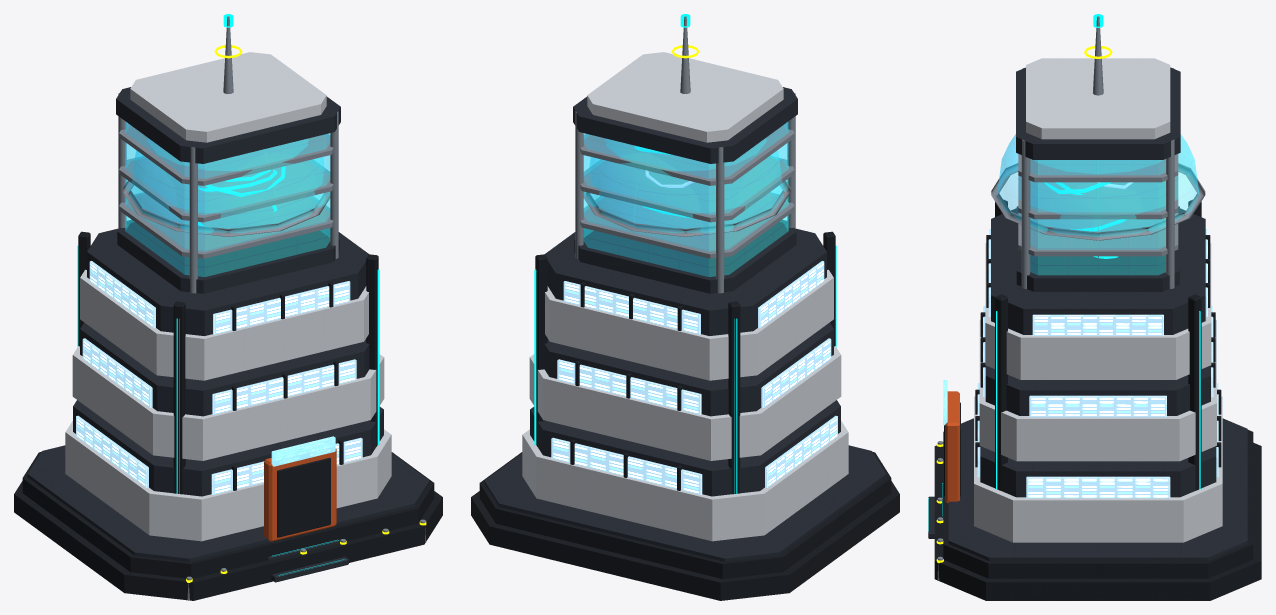
Rendered from bldg_05_r1_01.glb.
3 renders of one model, left to right at view 1: azimuth 30°, elevation 25°; view 2: azimuth 150°, elevation 25°; view 3: azimuth 270°, elevation 25°, orthographic.
Visible parts, largest first — view 1: Bldg05_C01_aero_white, Bldg05_C01_carbon_slate, Bldg05_C01_gunmetal, Bldg05_C01_steel_machined, Bldg05_C01_glass_cyan, Bldg05_C01_window_lit, Bldg05_C01_led_cyan, Bldg05_C01_accent_orange, Bldg05_C01_marquee; view 2: Bldg05_C01_aero_white, Bldg05_C01_carbon_slate, Bldg05_C01_gunmetal, Bldg05_C01_steel_machined, Bldg05_C01_glass_cyan, Bldg05_C01_window_lit, Bldg05_C01_led_cyan; view 3: Bldg05_C01_aero_white, Bldg05_C01_carbon_slate, Bldg05_C01_gunmetal, Bldg05_C01_steel_machined, Bldg05_C01_glass_cyan, Bldg05_C01_window_lit, Bldg05_C01_accent_orange, Bldg05_C01_led_cyan.
Boxes of the visible parts, x1,y1,x2,y2 form: Bldg05_C01_aero_white: (65,52,391,541); Bldg05_C01_carbon_slate: (27,87,429,582); Bldg05_C01_gunmetal: (14,231,442,600); Bldg05_C01_steel_machined: (118,16,426,600); Bldg05_C01_glass_cyan: (125,121,330,276); Bldg05_C01_window_lit: (76,261,362,494); Bldg05_C01_led_cyan: (77,14,379,576); Bldg05_C01_accent_orange: (264,448,336,541); Bldg05_C01_marquee: (271,436,335,466); Bldg05_C01_aero_white: (522,52,848,541); Bldg05_C01_carbon_slate: (484,87,886,561); Bldg05_C01_gunmetal: (471,231,899,600); Bldg05_C01_steel_machined: (575,16,882,463); Bldg05_C01_glass_cyan: (583,121,788,276); Bldg05_C01_window_lit: (551,261,837,494); Bldg05_C01_led_cyan: (534,14,836,493); Bldg05_C01_aero_white: (974,58,1222,542); Bldg05_C01_carbon_slate: (928,67,1247,561); Bldg05_C01_gunmetal: (934,200,1261,600); Bldg05_C01_steel_machined: (937,16,1205,580); Bldg05_C01_glass_cyan: (997,134,1199,274); Bldg05_C01_window_lit: (977,229,1218,498); Bldg05_C01_accent_orange: (945,391,959,503); Bldg05_C01_led_cyan: (928,14,1200,531).
Size of the model in its own units: 12 by 17.92 by 10.71.
11 materials, 11 textured.
